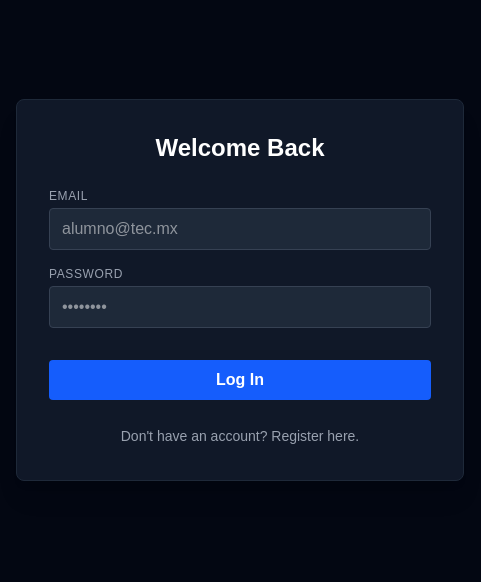
Test: AuthScreen › registers under a brand-new organization name (created server-side)
Click the button "Don't have an account? Register here.". click: (240, 436)
box: [121, 426, 359, 446]
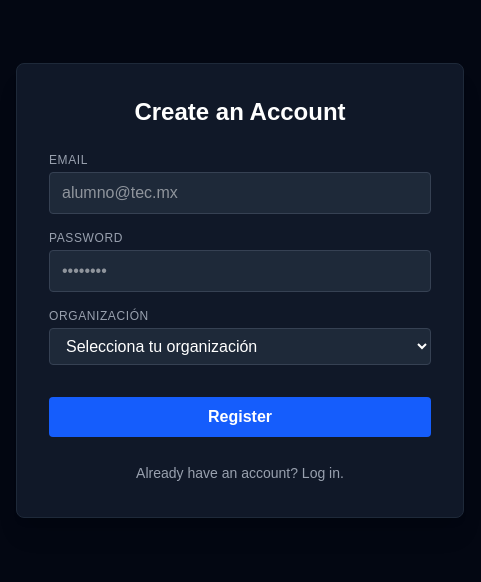
Type "founder@tec.mx" into the field with placeholder "alumno@tec.mx". click: (240, 192)
box: [49, 172, 431, 214]
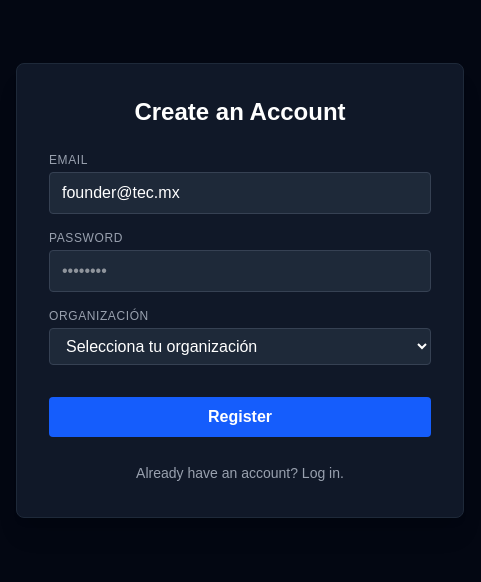
Type "password1" into the password field with placeholder "••••••••". click: (240, 270)
box: [49, 250, 431, 292]
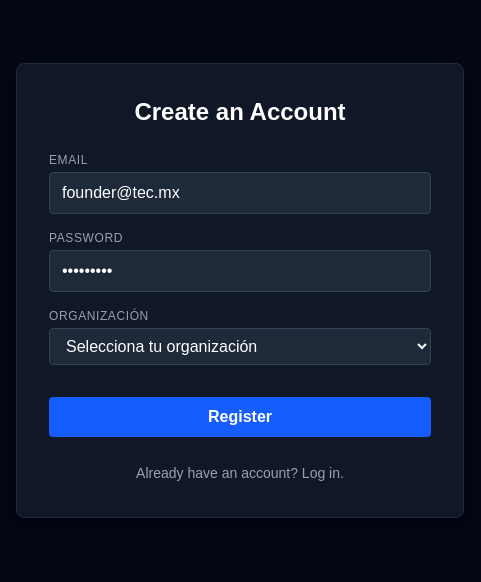
Select "Otra (agregar nueva)" in the dropdown. click: (240, 346)
box: [49, 328, 431, 364]
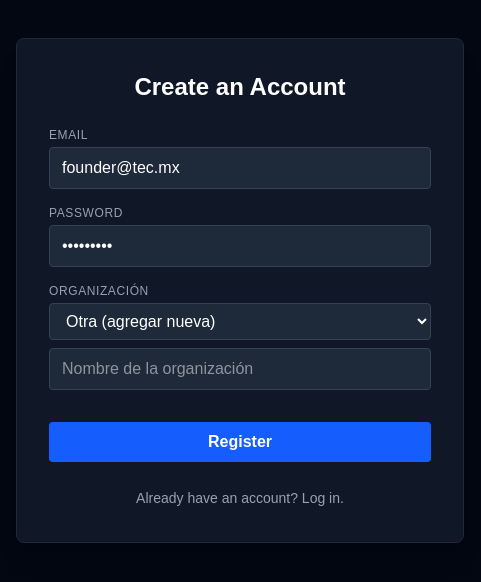
Type "Aeroblaze" into the field with placeholder "Nombre de la organización". click: (240, 368)
box: [49, 348, 431, 390]
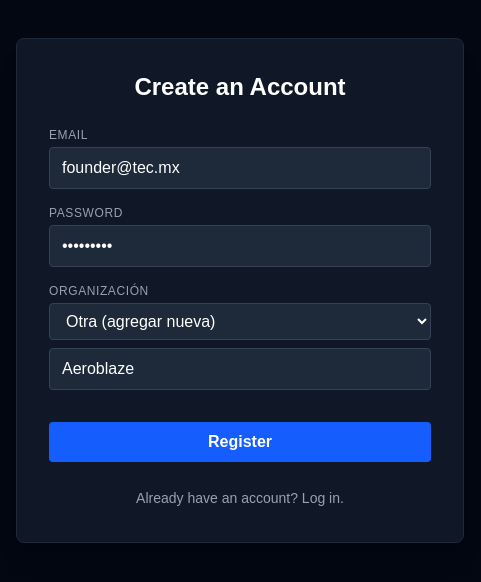
Click the button "Register". click: (240, 442)
box: [49, 422, 431, 462]
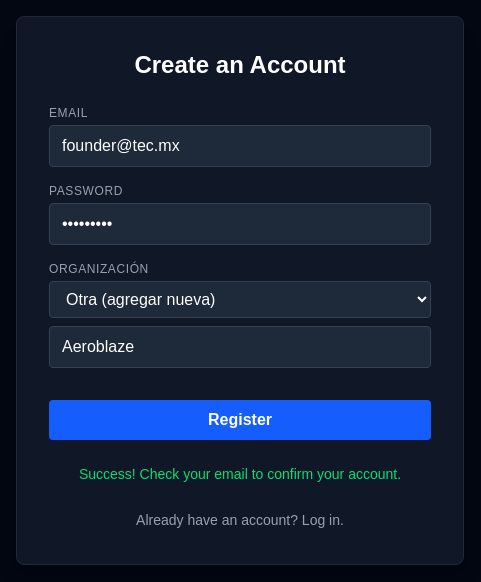
Result: the text "Success! Check your email to confirm your account." is shown at [79, 466, 401, 482]
